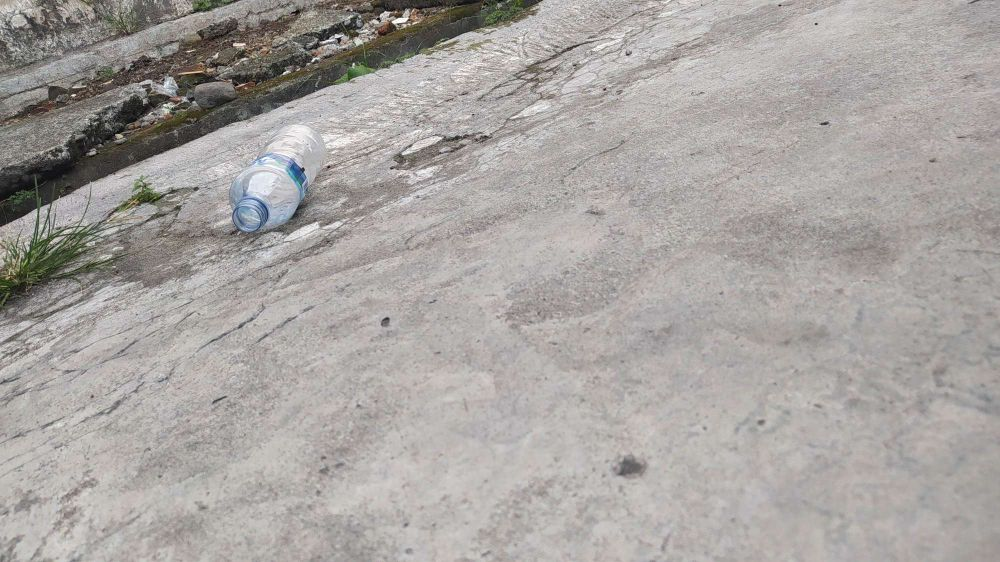botol: (216, 100, 343, 240)
